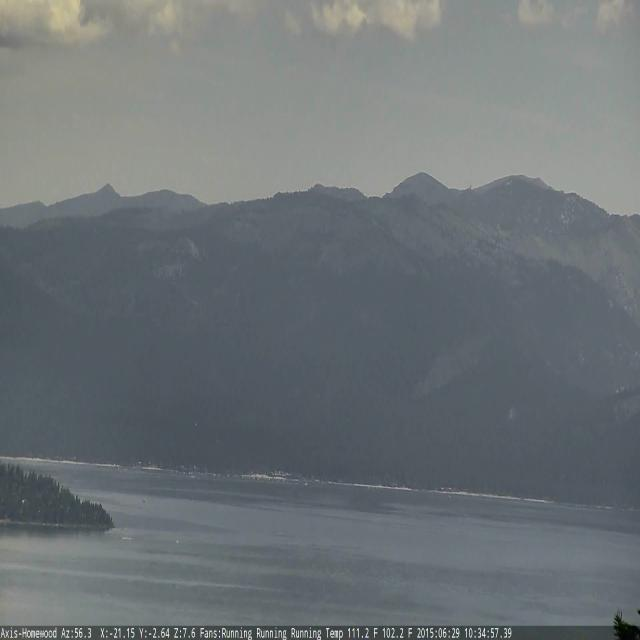smoke: (505, 404, 514, 423)
